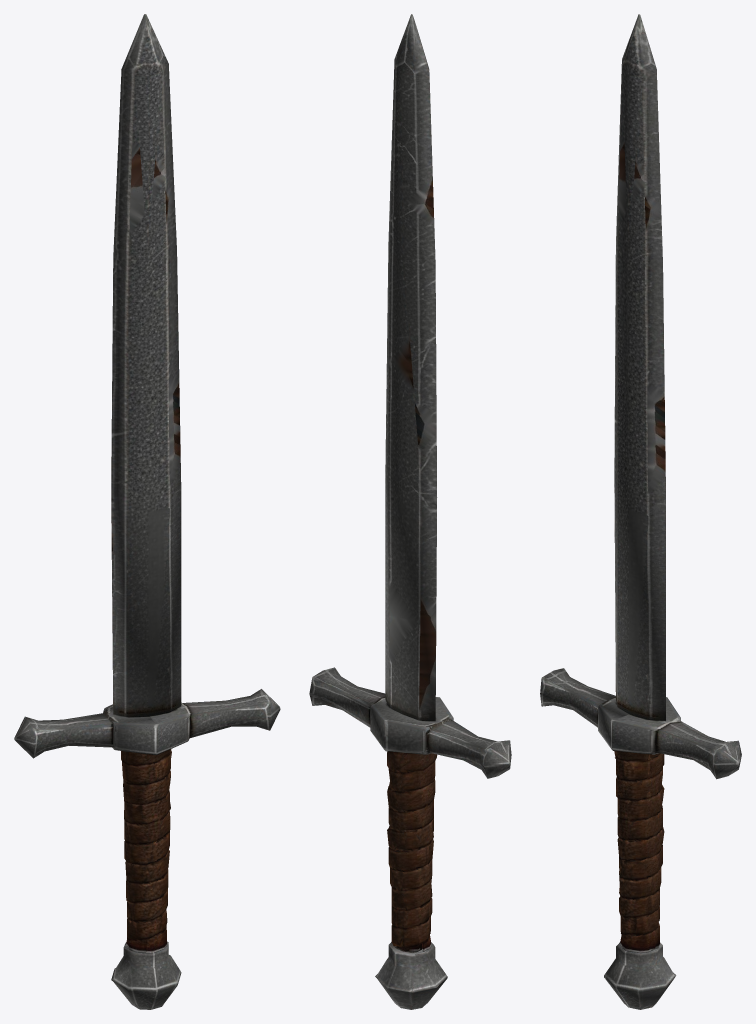
The model's file is barrosan_claymore.glb.
3 renders of one model, left to right at view 1: azimuth 30°, elevation 25°; view 2: azimuth 150°, elevation 25°; view 3: azimuth 330°, elevation 25°, orthographic.
Size of the model in its own units: 0.2444 by 0.998 by 0.0903.
1 material, 1 textured.
